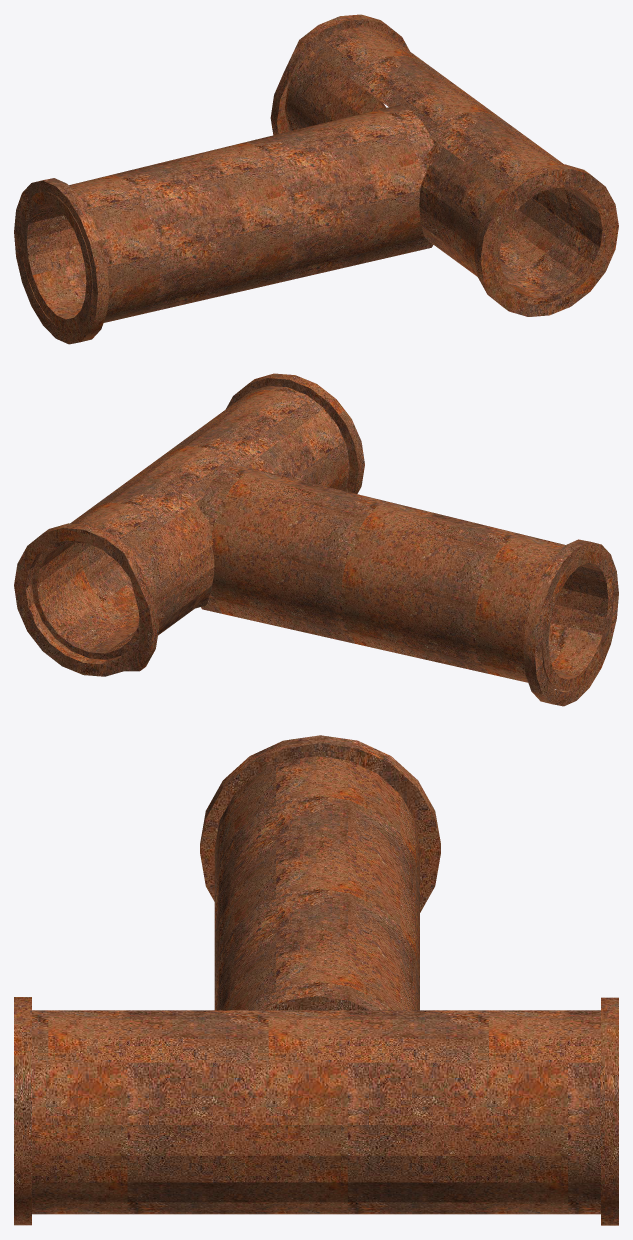
Rendered from pipe 8 c.fbx.
3 views of the same model, one above another, from view 1: azimuth 30°, elevation 25°; view 2: azimuth 150°, elevation 25°; view 3: azimuth 270°, elevation 25° (orthographic). The views are drawn at different scales.
Parts seen in each view (by area): view 1: pCylinder183; view 2: pCylinder183; view 3: pCylinder183.
Part boxes in pixels (left/top/right/bottom): pCylinder183: left=14, top=14, right=618, bottom=344; pCylinder183: left=14, top=373, right=618, bottom=706; pCylinder183: left=14, top=735, right=618, bottom=1225.
Bounding box in the file's own units: 5782 × 1838 × 4609.
